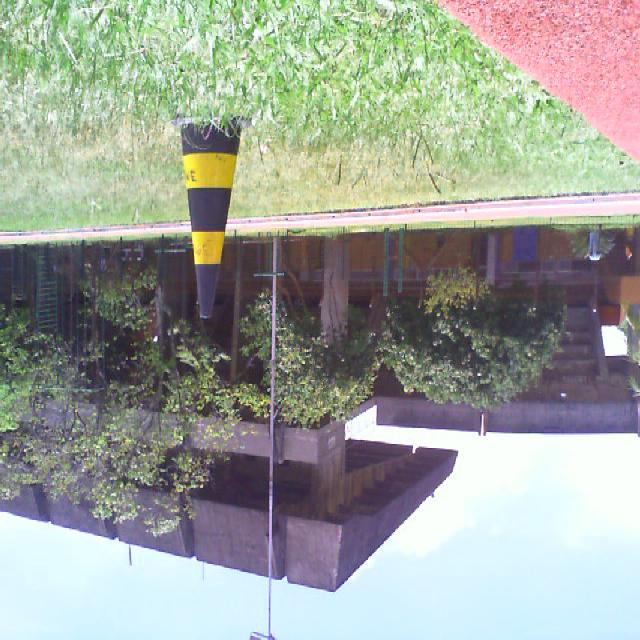cone: (166, 116, 252, 319)
